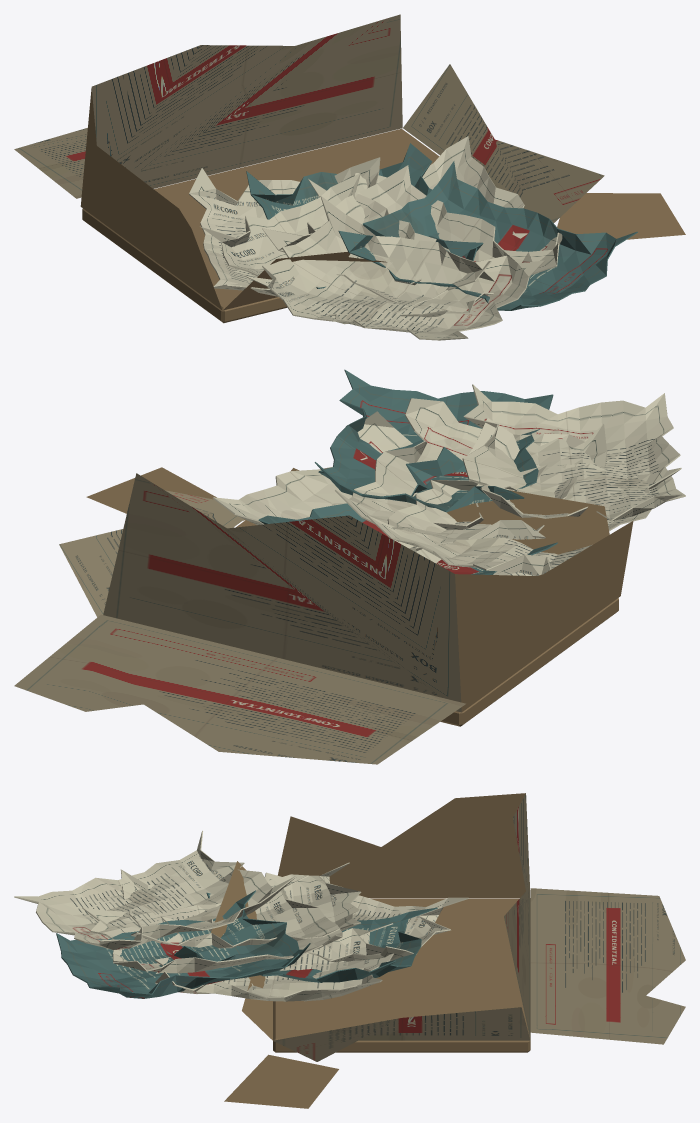
Rendered from DS_Clue_ArchiveBox_Damaged_V02.fbx.
3 views of the same model, one above another, from view 1: azimuth 30°, elevation 25°; view 2: azimuth 150°, elevation 25°; view 3: azimuth 270°, elevation 25° (orthographic). The views are drawn at different scales.
Visible parts, largest first — view 1: DS_Clue_ArchiveBox_Damaged_V02; view 2: DS_Clue_ArchiveBox_Damaged_V02; view 3: DS_Clue_ArchiveBox_Damaged_V02.
Part boxes in pixels (x1,y1,x2,y2): DS_Clue_ArchiveBox_Damaged_V02: (14,14,685,340); DS_Clue_ArchiveBox_Damaged_V02: (14,369,685,764); DS_Clue_ArchiveBox_Damaged_V02: (14,793,685,1108).
Bounding box in the file's own units: 114 × 35.25 × 151.
4 materials, 3 textured.
